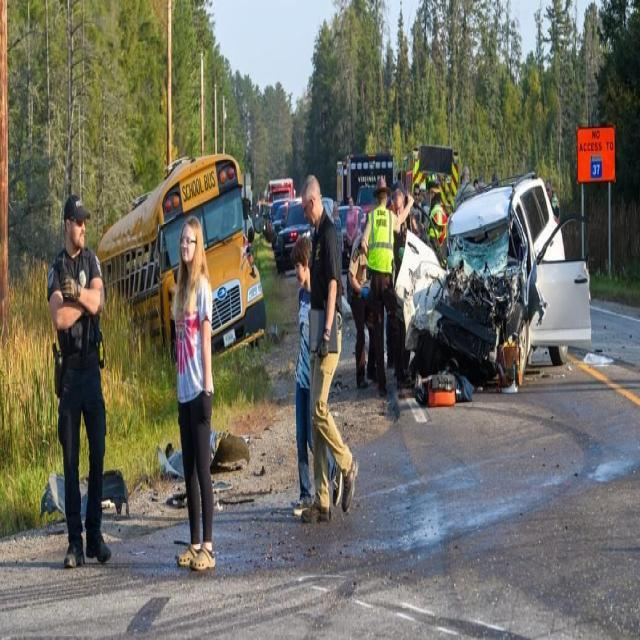Accident: (350, 174, 590, 402), (84, 148, 268, 379)
